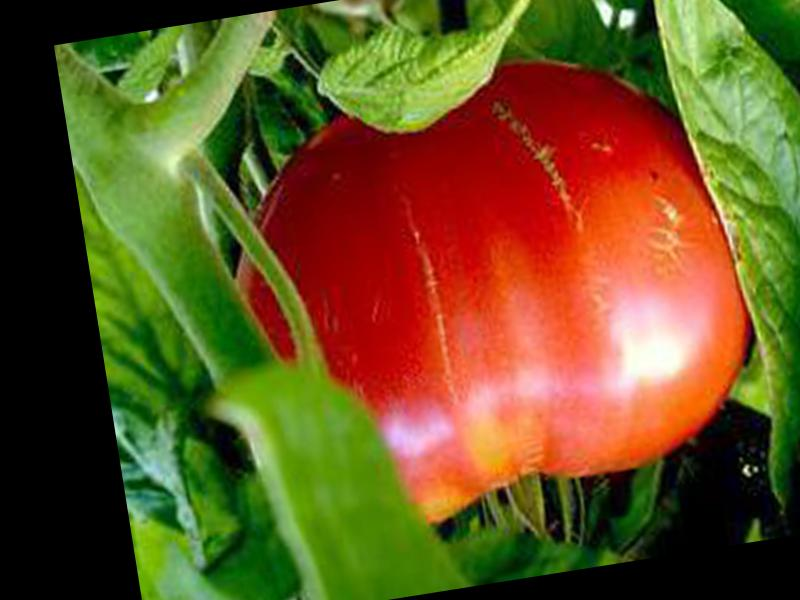Tomato: (211, 33, 778, 550)
